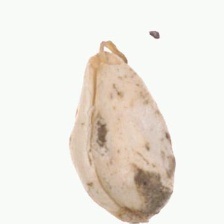L1: (83, 38, 130, 77), (109, 202, 161, 224)
L2: (69, 39, 177, 224)
